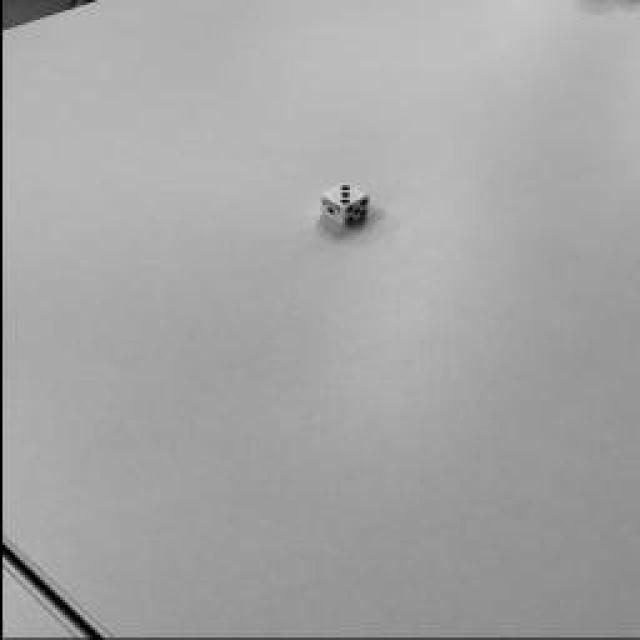dice_3: (321, 185, 364, 207)
